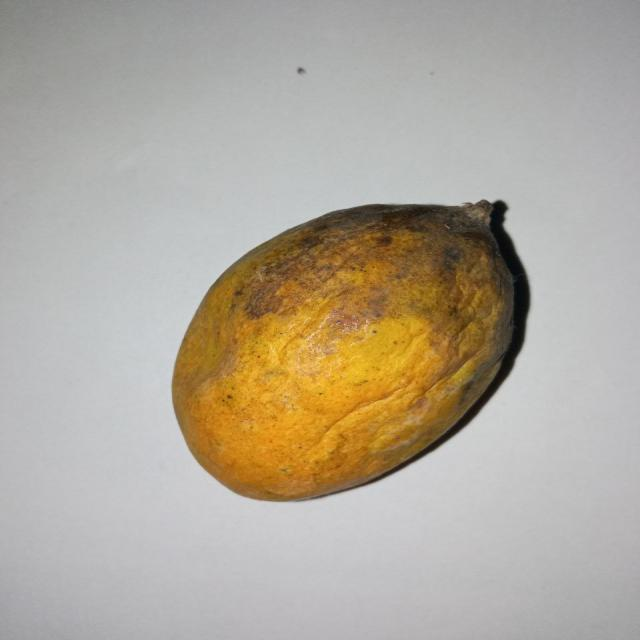rotten_mango: (169, 200, 521, 504)
